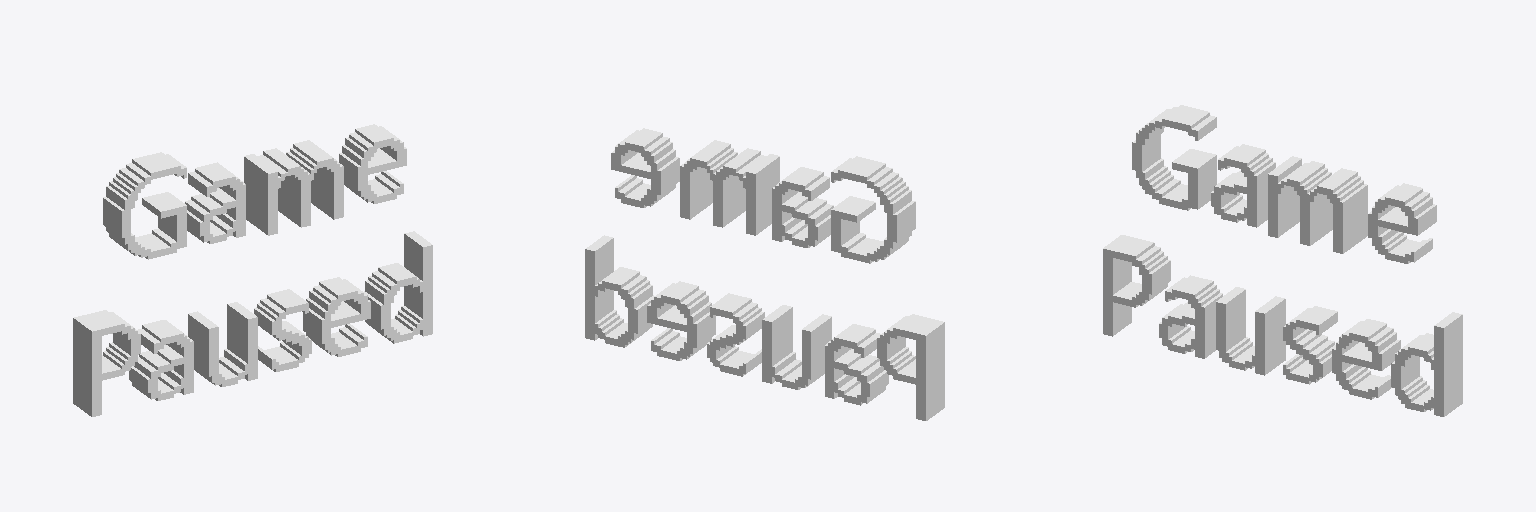
The model's file is GamePaused.obj.
3 views of the same model, side by side, from view 1: azimuth 30°, elevation 25°; view 2: azimuth 150°, elevation 25°; view 3: azimuth 330°, elevation 25° (orthographic).
Bounding box in the file's own units: 10.4 × 6.7 × 1.3.